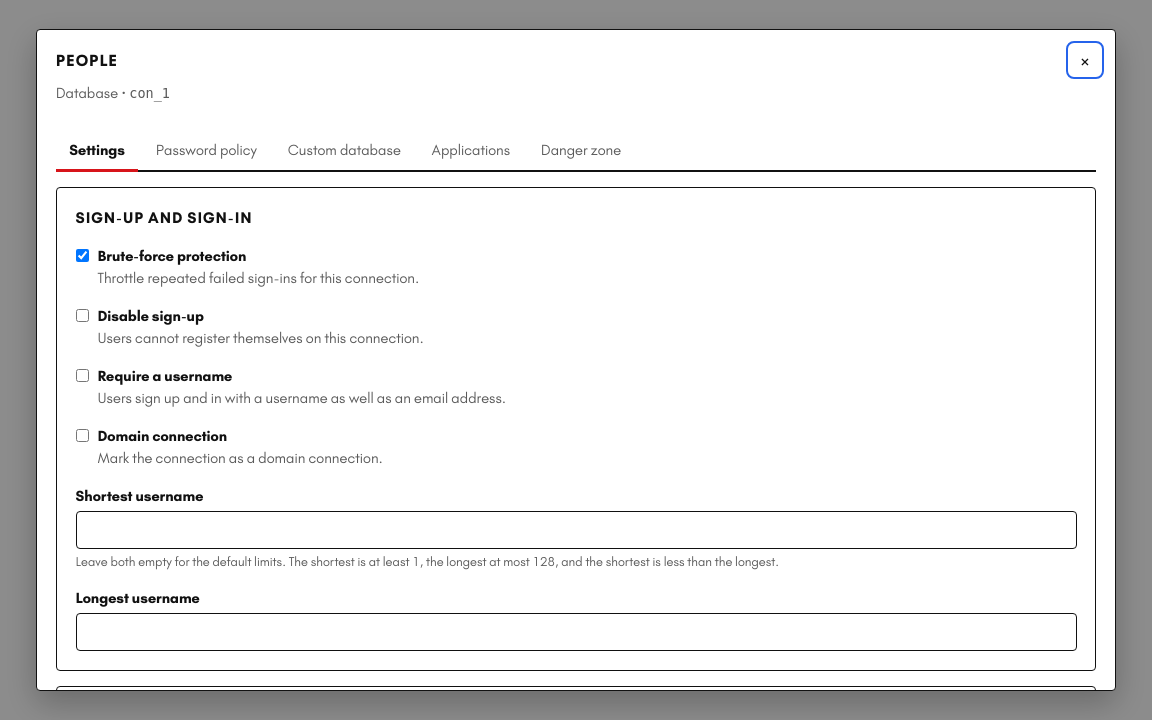
Test: connection detail › password policy › runs the live checker from the unsaved form, in the browser only
This screenshot has width=1152, height=720.
Press the mouse on the tab "Password policy": (206, 151) [142,131,270,172]
(page scrolled)
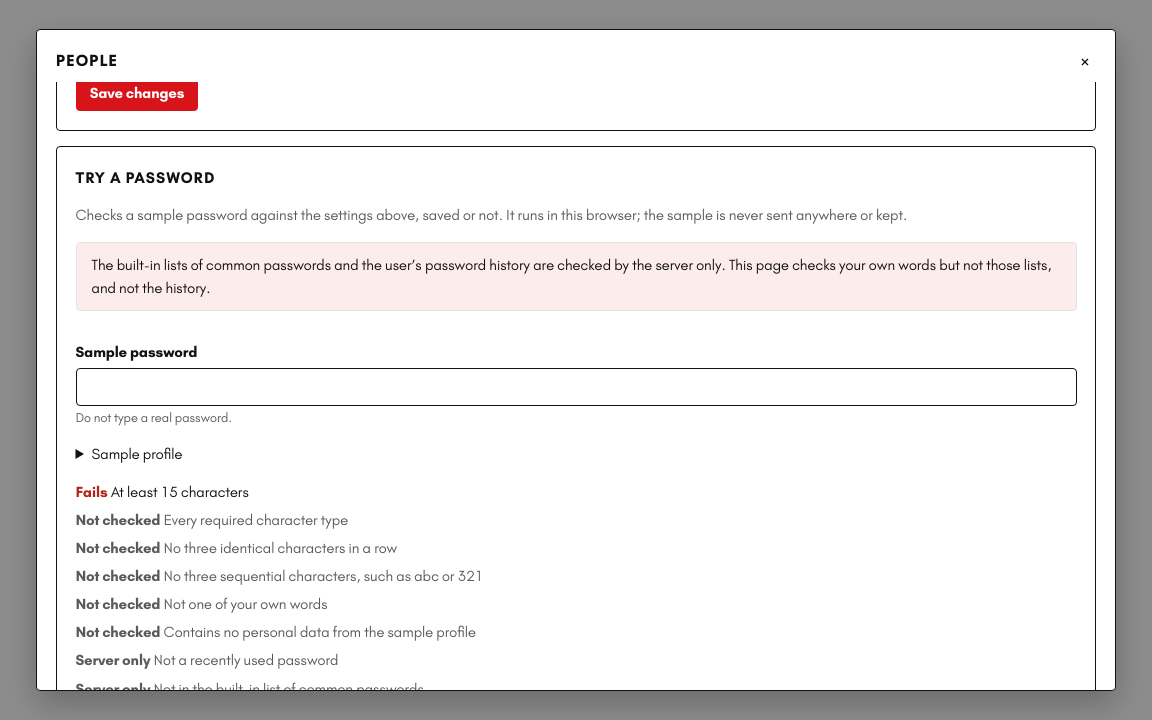
In the field labelled "Sample password": (576, 387) [76,368,1076,406], type "abc"
(page scrolled)
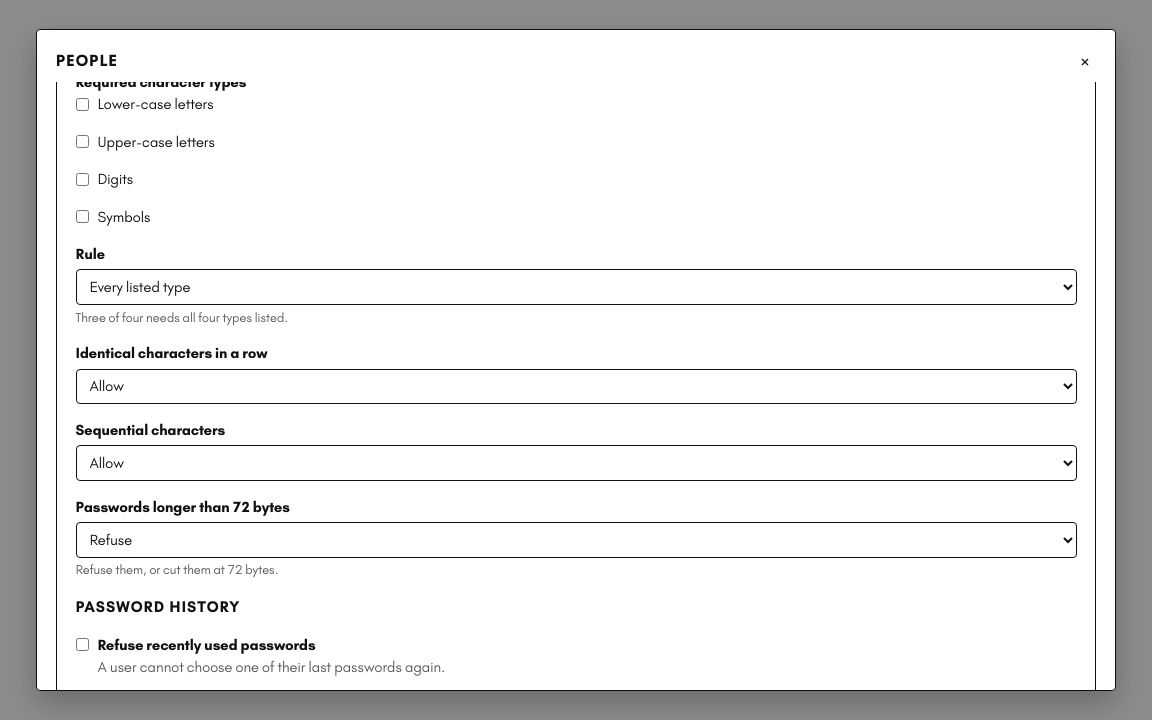
Select "Block three or more" in the dropdown labelled "Identical characters in a row": (576, 386) [76,369,1076,404]
(page scrolled)
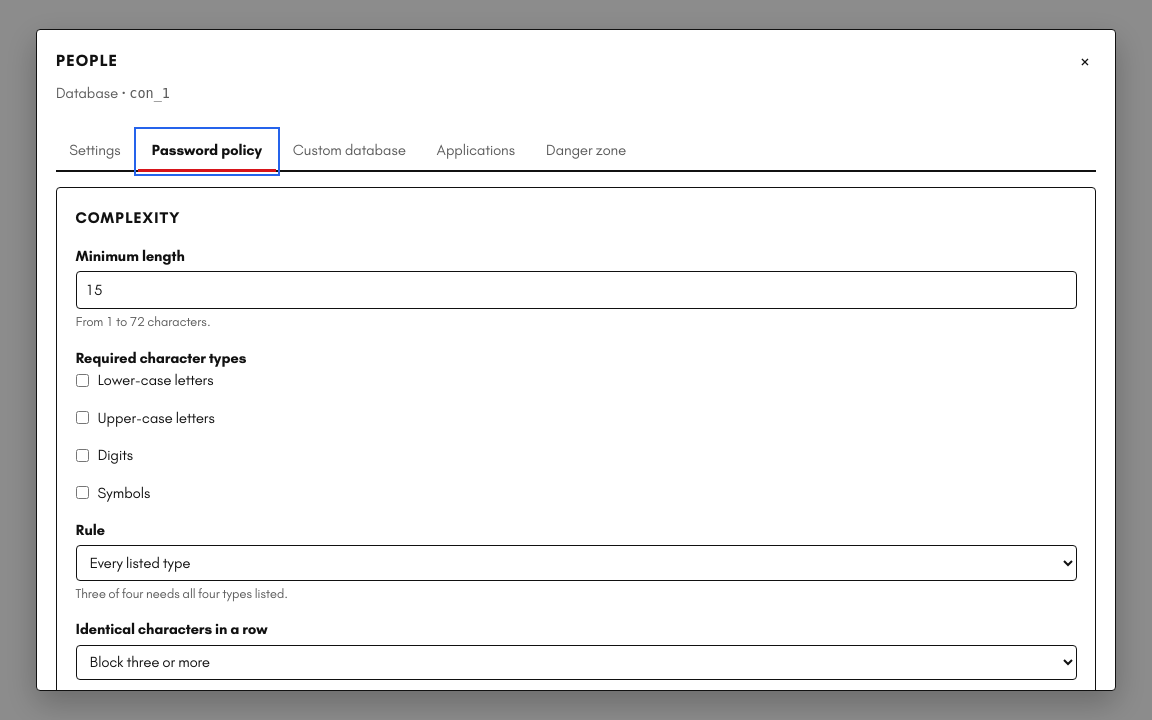
Replace the text in the field labelled "Minimum length" with "3": (576, 290) [76,271,1076,309]
(page scrolled)
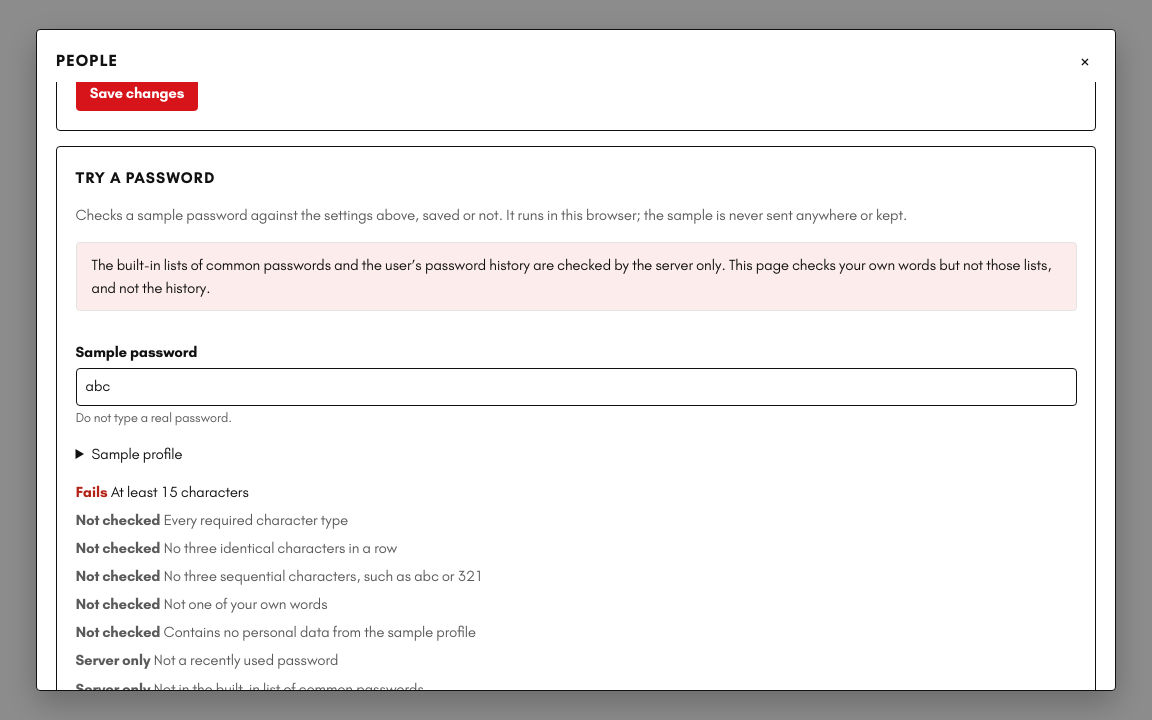
Replace the text in the field labelled "Sample password" with "aaab": (576, 387) [76,368,1076,406]
(page scrolled)
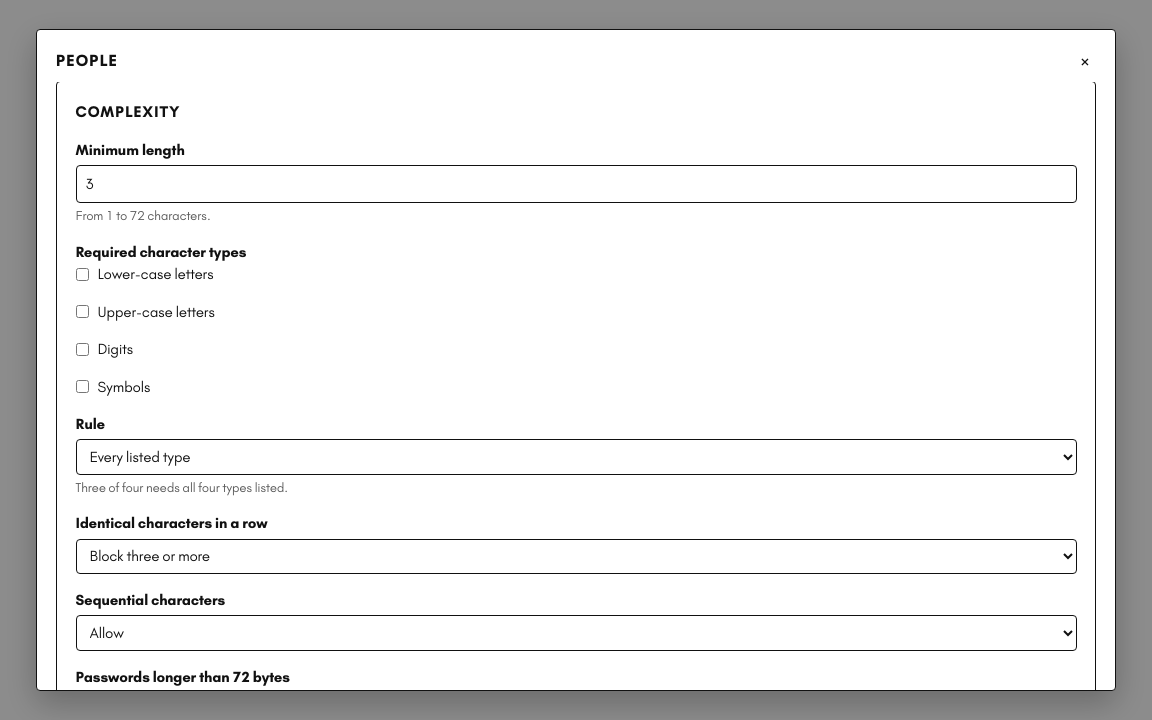
Click the checkbox labelled "Symbols": (82, 387) [76,380,88,393]
(page scrolled)
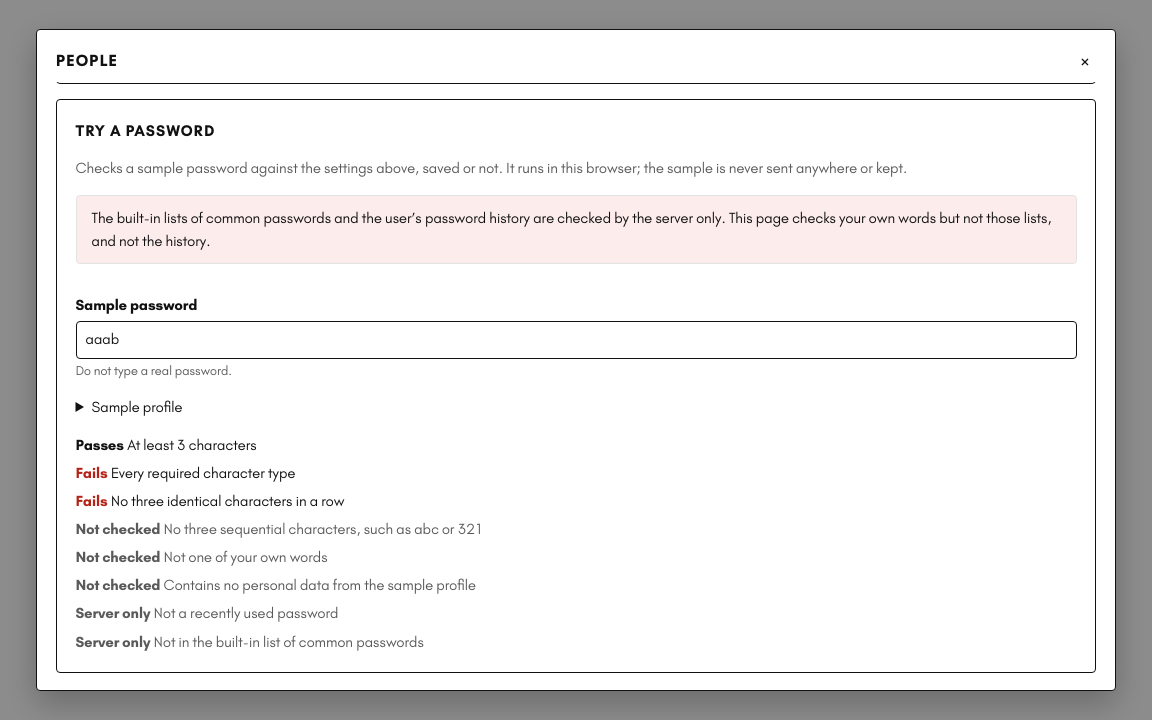
Now the list item with test id "rule-history" shows "Server only", box [76,604,150,622]
Now the list item with test id "rule-common" shows "Server only", box [76,632,150,650]
Now the element with test id "checker" shows "checked by the server only", box [92,209,1052,250]
